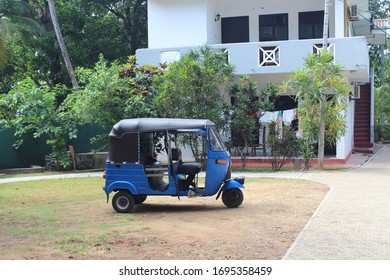threewheel: (101, 116, 245, 212)
